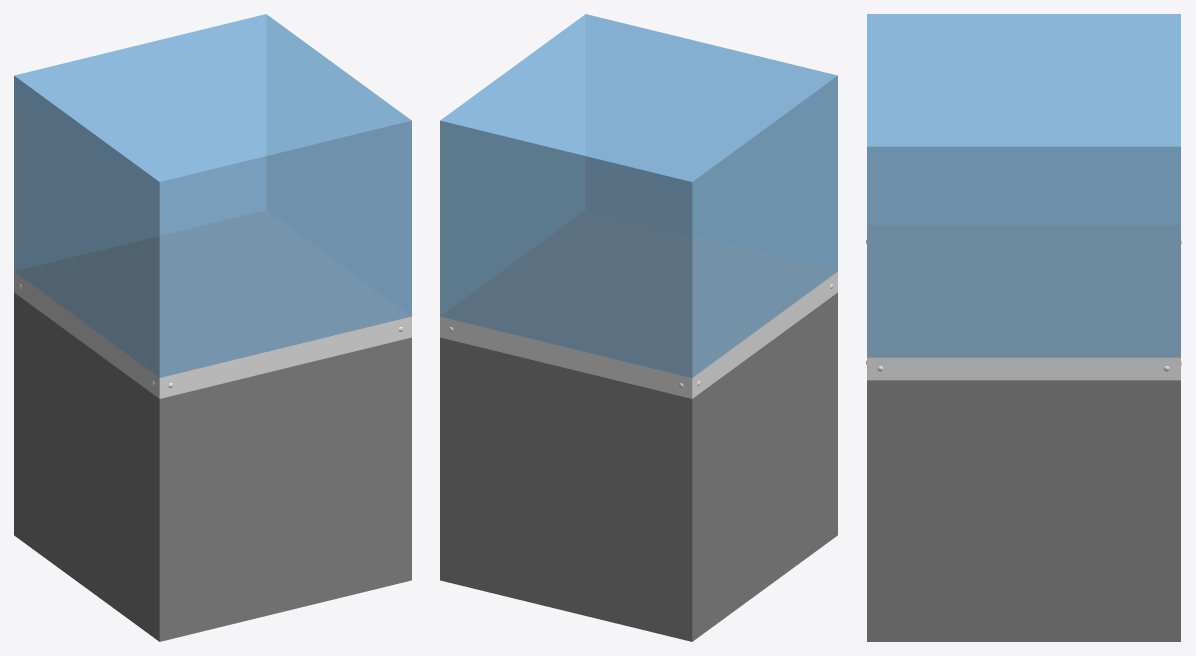
Rendered from Podium_A.FBX.
3 views of the same model, side by side, from view 1: azimuth 30°, elevation 25°; view 2: azimuth 150°, elevation 25°; view 3: azimuth 270°, elevation 25° (orthographic). The views are drawn at different scales.
Parts seen in each view (by area): view 1: Wood, Glass, Chrome; view 2: Wood, Glass, Chrome; view 3: Wood, Glass, Chrome.
Boxes of the visible parts, x1,y1,x2,y2 form: Wood: [14, 210, 411, 641]; Glass: [14, 14, 411, 377]; Chrome: [14, 271, 411, 398]; Wood: [440, 210, 837, 641]; Glass: [440, 14, 837, 377]; Chrome: [440, 271, 837, 398]; Wood: [867, 225, 1180, 641]; Glass: [867, 14, 1180, 357]; Chrome: [866, 239, 1181, 380].
Size of the model in its own units: 20.13 by 34.85 by 20.13.
